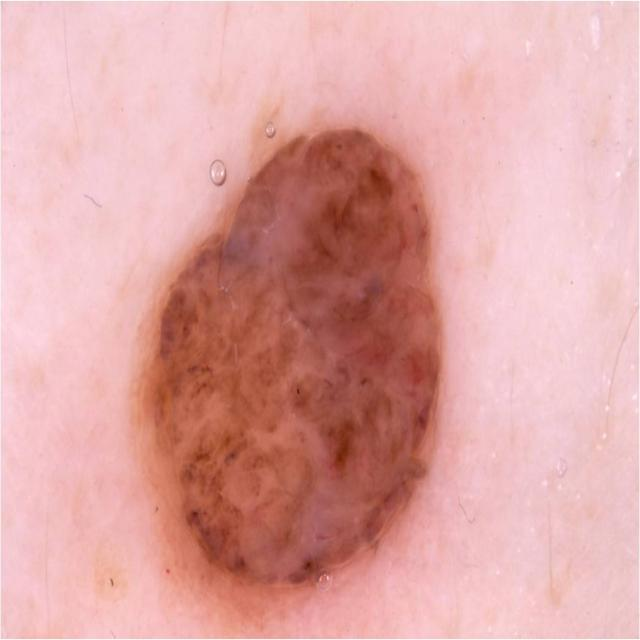Benign: (134, 122, 446, 610)
